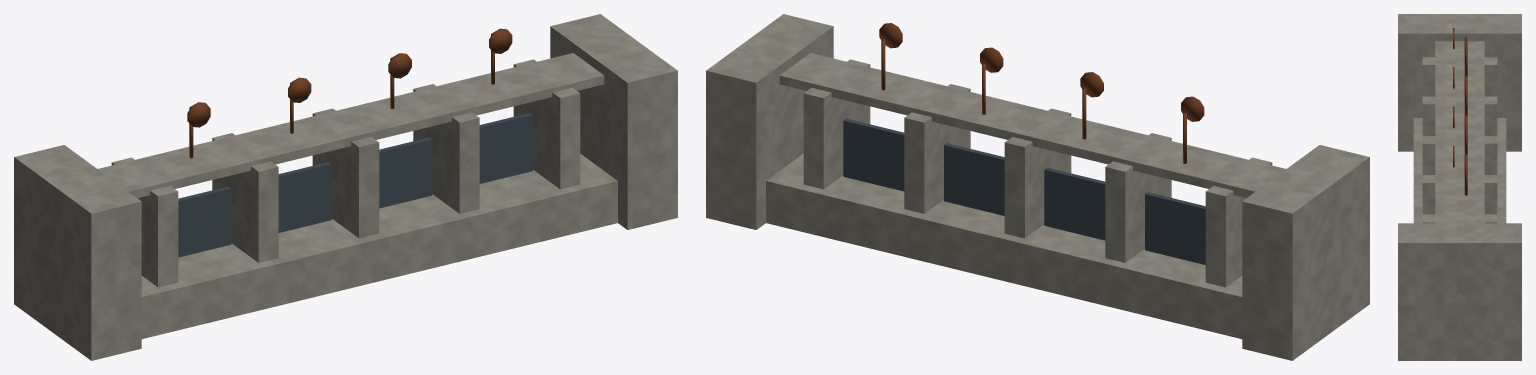
The model's file is sluice_gate.glb.
3 renders of one model, left to right at view 1: azimuth 30°, elevation 25°; view 2: azimuth 150°, elevation 25°; view 3: azimuth 270°, elevation 25°, orthographic. The views are drawn at different scales.
Visible parts, largest first — view 1: Anicut; view 2: Anicut; view 3: Anicut.
Boxes of the visible parts, x1=… form: Anicut: x1=14, y1=14, x2=677, y2=360; Anicut: x1=706, y1=14, x2=1369, y2=360; Anicut: x1=1398, y1=14, x2=1521, y2=360.
Bounding box in the file's own units: 17.5 × 5.65 × 4.
3 materials, 1 textured.
